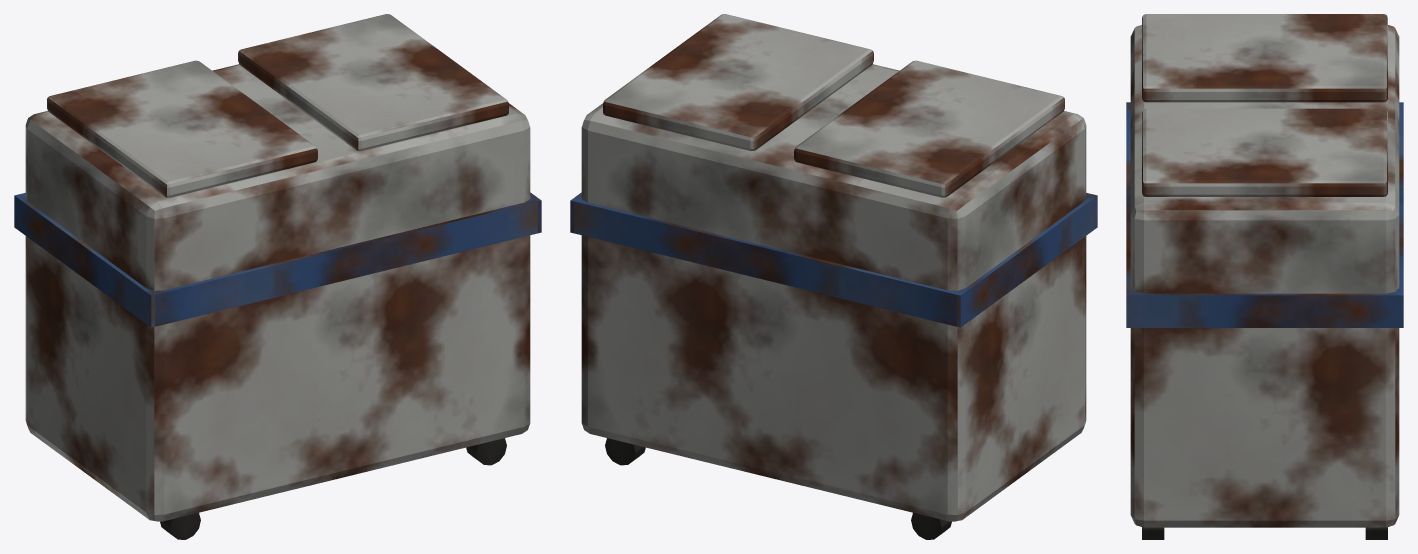
Rendered from ST24_StreetIceBox.glb.
3 views of the same model, side by side, from view 1: azimuth 30°, elevation 25°; view 2: azimuth 150°, elevation 25°; view 3: azimuth 270°, elevation 25° (orthographic).
Parts seen in each view (by area): view 1: ST24_StreetIceBox; view 2: ST24_StreetIceBox; view 3: ST24_StreetIceBox.
Boxes of the visible parts, left/top/right/bottom form: ST24_StreetIceBox: left=14, top=14, right=541, bottom=539; ST24_StreetIceBox: left=570, top=14, right=1097, bottom=539; ST24_StreetIceBox: left=1126, top=14, right=1403, bottom=539.
Size of the model in its own units: 1 by 0.8824 by 0.6078.
3 materials, 3 textured.
